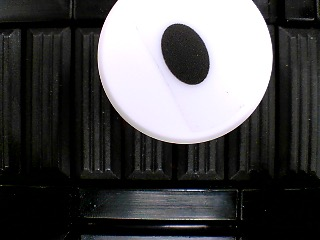BOHOEL: (96, 1, 274, 145)
